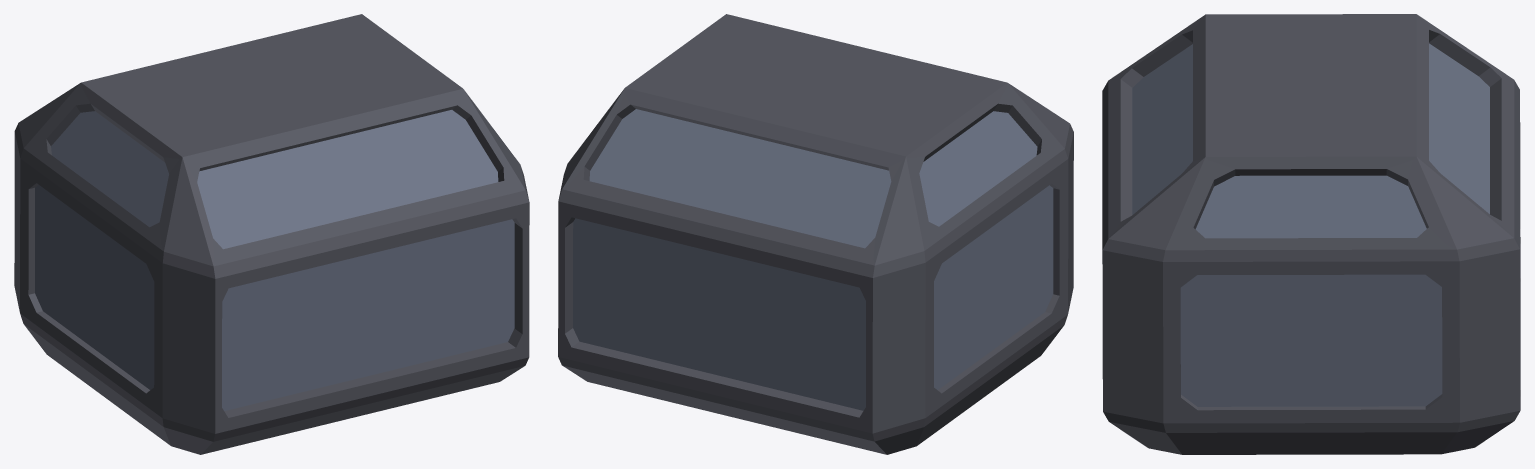
File: 堡垒墙壁小夹层_001.fbx
The picture shows the model from 3 angles, left to right: view 1: azimuth 30°, elevation 25°; view 2: azimuth 150°, elevation 25°; view 3: azimuth 270°, elevation 25°; orthographic projection. The views are drawn at different scales.
Visible parts, largest first — view 1: 堡垒墙壁小夹层.001; view 2: 堡垒墙壁小夹层.001; view 3: 堡垒墙壁小夹层.001.
Boxes of the visible parts, bbox=[...] form: 堡垒墙壁小夹层.001: bbox=[14, 14, 529, 454]; 堡垒墙壁小夹层.001: bbox=[558, 14, 1073, 454]; 堡垒墙壁小夹层.001: bbox=[1102, 14, 1520, 454].
Size of the model in its own units: 2.24 by 1.64 by 2.16.
